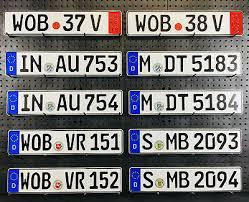0: (205, 171, 216, 189), (205, 133, 215, 150)
1: (204, 94, 215, 112), (203, 55, 214, 73), (88, 171, 98, 190), (111, 133, 121, 151), (89, 134, 99, 151)
2: (193, 133, 204, 151), (193, 171, 204, 188), (109, 172, 119, 189)
3: (62, 13, 75, 32), (226, 54, 239, 72), (106, 55, 119, 73), (184, 14, 196, 32), (228, 132, 239, 150)
4: (228, 93, 240, 111), (107, 94, 118, 112), (229, 170, 240, 188)
5: (192, 93, 205, 111), (191, 55, 203, 73), (95, 55, 107, 73), (96, 93, 108, 110), (99, 172, 109, 190), (101, 134, 111, 151)
7: (75, 13, 87, 33), (84, 55, 95, 74), (85, 94, 96, 112)
8: (197, 13, 209, 32), (216, 94, 227, 112), (215, 55, 226, 73)
9: (217, 171, 229, 188), (216, 133, 227, 151)
A: (55, 55, 66, 74), (56, 95, 67, 112)
B: (160, 13, 173, 33), (179, 171, 191, 190), (179, 133, 191, 151), (40, 172, 52, 190), (38, 13, 50, 31), (42, 133, 53, 151)
D: (164, 55, 175, 73), (165, 94, 176, 111)
I: (20, 54, 30, 74), (21, 94, 31, 113)
M: (165, 133, 178, 151), (139, 56, 152, 73), (142, 94, 154, 112), (167, 172, 178, 190)
N: (31, 94, 44, 112), (29, 55, 42, 73)
O: (25, 13, 37, 32), (148, 14, 160, 32), (30, 172, 41, 190), (31, 134, 41, 151)
R: (75, 171, 86, 190), (76, 133, 87, 151)
S: (140, 133, 153, 151), (142, 172, 154, 189)
T: (178, 93, 190, 111), (177, 55, 188, 73)
U: (67, 55, 80, 74), (68, 93, 80, 112)
V: (211, 13, 224, 33), (91, 13, 103, 32), (65, 172, 75, 190), (66, 133, 75, 151)
W: (11, 13, 23, 33), (134, 14, 146, 33), (20, 133, 30, 152), (20, 172, 29, 190)
